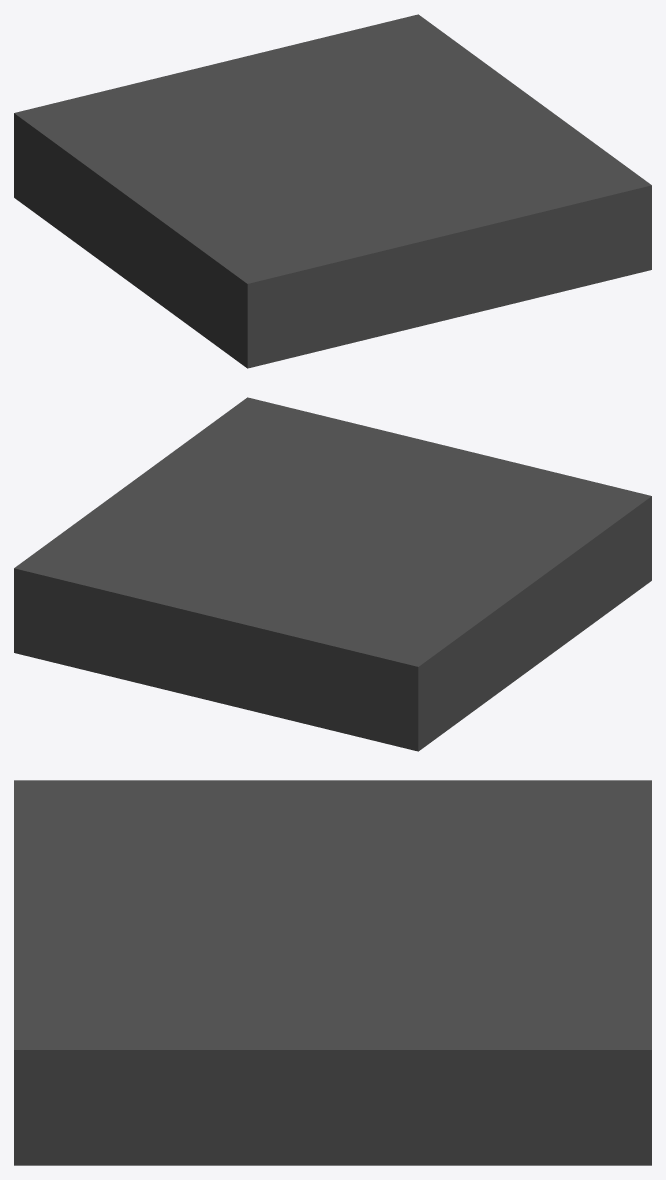
The model's file is city_floor_0.cube.obj.
3 views of the same model, one above another, from view 1: azimuth 30°, elevation 25°; view 2: azimuth 150°, elevation 25°; view 3: azimuth 270°, elevation 25° (orthographic). The views are drawn at different scales.
Bounding box in the file's own units: 5 × 1 × 5.
1 material, 1 textured.
